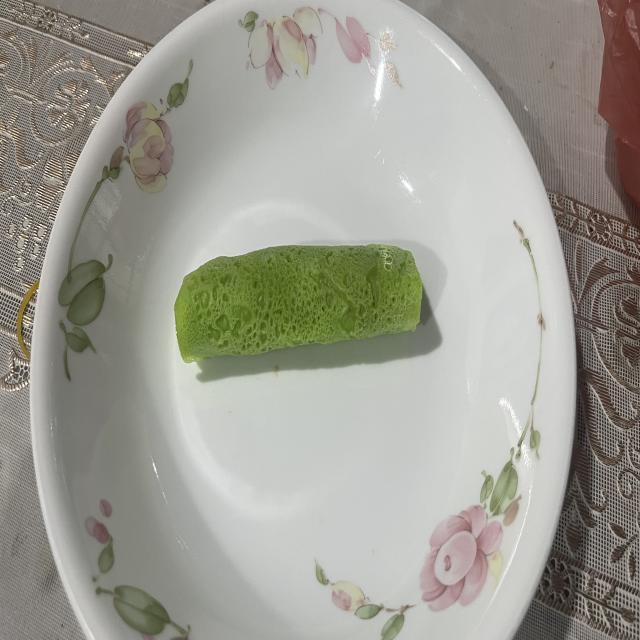Kuih-Ketayap: (175, 244, 422, 362)
